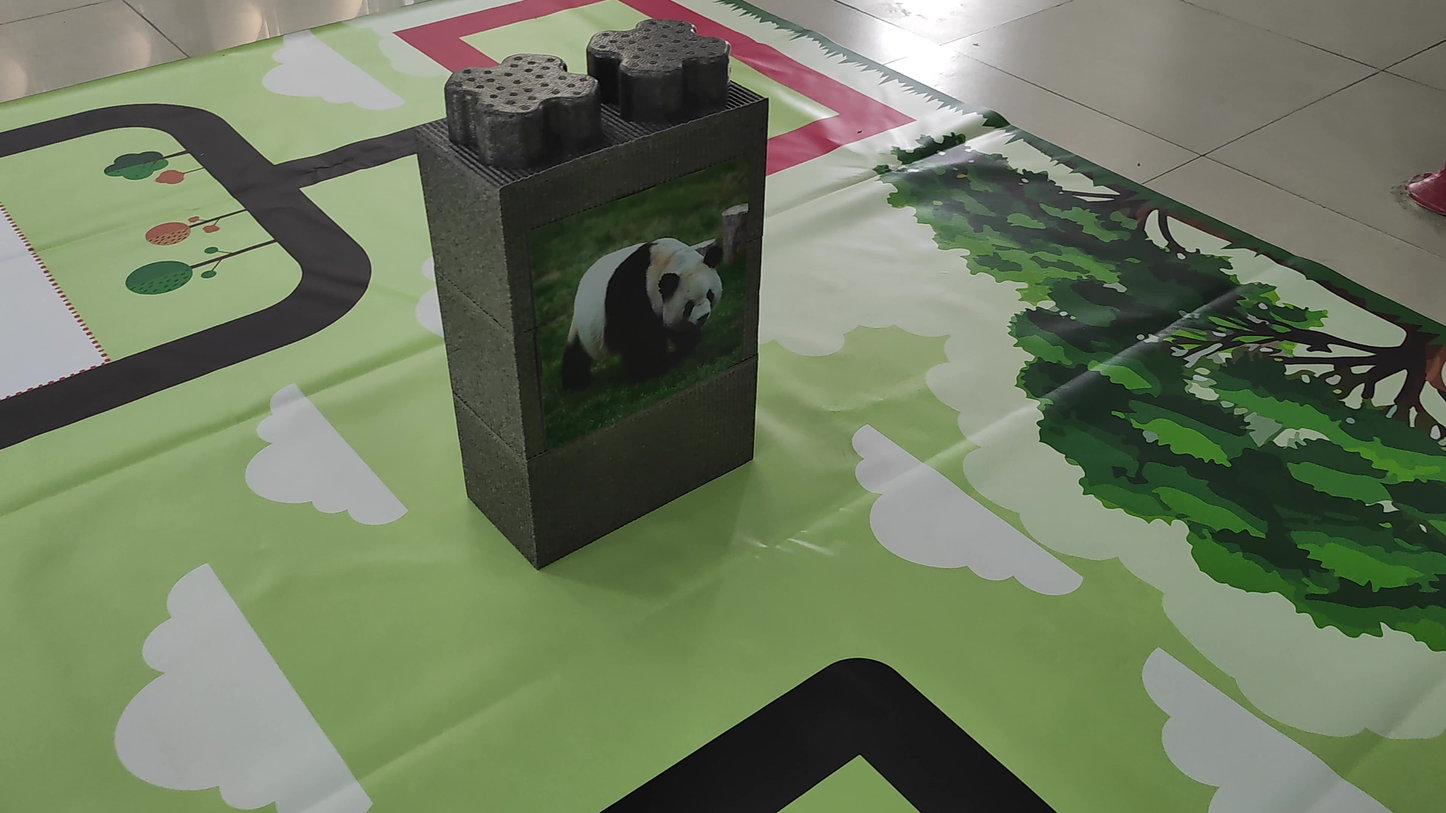panda: (532, 181, 754, 432)
